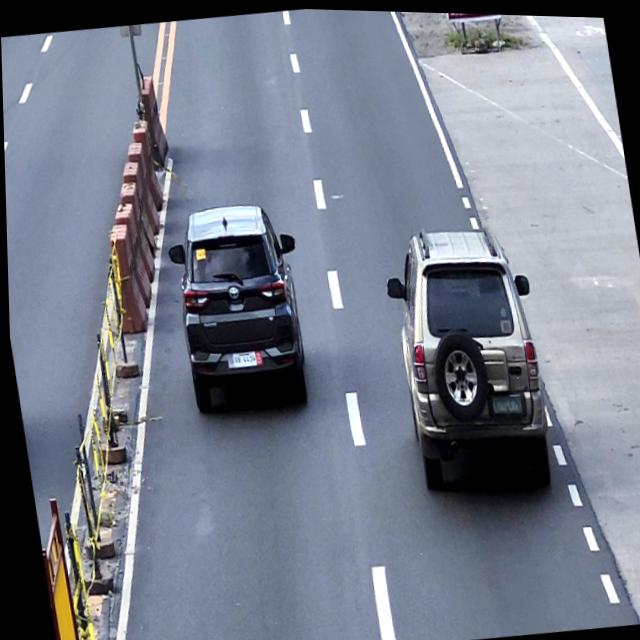Car: (375, 213, 557, 498), (160, 194, 317, 416)
License-Plate: (222, 345, 260, 369), (488, 389, 522, 413)
